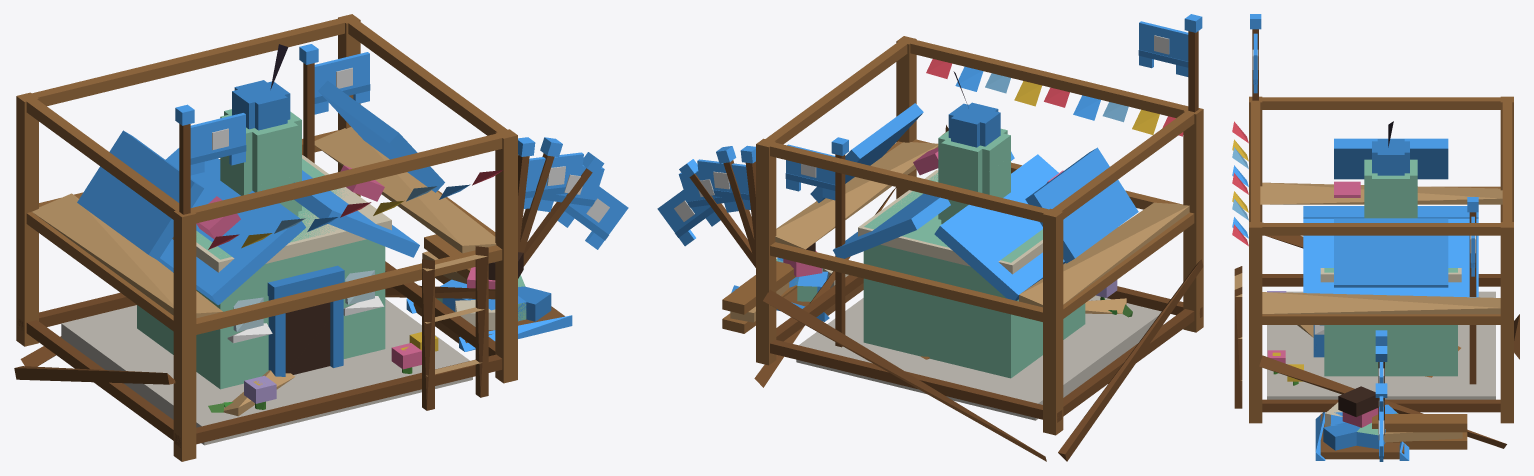
File: butterfly-home.glb
The picture shows the model from 3 angles, left to right: view 1: azimuth 30°, elevation 25°; view 2: azimuth 150°, elevation 25°; view 3: azimuth 270°, elevation 25°; orthographic projection. The views are drawn at different scales.
Parts seen in each view (by area): view 1: scaffold-mesh, built-mesh, dismantle-25-mesh, dismantle-75-mesh, dismantle-50-mesh, scaffold-banner, banner, dismantle-25-banner, dismantle-75-banner, flag-pole, dismantle-25-flag-pole, scaffold-flag-pole (+3 smaller); view 2: scaffold-mesh, built-mesh, dismantle-75-mesh, dismantle-25-mesh, dismantle-50-mesh, scaffold-banner, flag-pole, dismantle-25-banner, dismantle-75-banner, banner, dismantle-50-banner, dismantle-25-flag-pole (+3 smaller); view 3: scaffold-mesh, built-mesh, dismantle-25-mesh, dismantle-50-mesh, dismantle-75-mesh, flag-pole, scaffold-flag-pole, scaffold-banner.
Boxes of the visible parts, left/top/right/bottom form: scaffold-mesh: left=14, top=14, right=517, bottom=461; built-mesh: left=77, top=44, right=444, bottom=409; dismantle-25-mesh: left=61, top=252, right=572, bottom=445; dismantle-75-mesh: left=159, top=143, right=562, bottom=407; dismantle-50-mesh: left=222, top=275, right=564, bottom=416; scaffold-banner: left=190, top=113, right=246, bottom=175; banner: left=314, top=52, right=370, bottom=114; dismantle-25-banner: left=557, top=178, right=628, bottom=249; dismantle-75-banner: left=523, top=152, right=583, bottom=208; flag-pole: left=299, top=44, right=318, bottom=163; dismantle-25-flag-pole: left=523, top=152, right=604, bottom=266; scaffold-flag-pole: left=175, top=104, right=194, bottom=214; scaffold-mesh: left=722, top=36, right=1203, bottom=461; built-mesh: left=810, top=71, right=1138, bottom=378; dismantle-75-mesh: left=732, top=147, right=1132, bottom=420; dismantle-25-mesh: left=783, top=242, right=1161, bottom=403; dismantle-50-mesh: left=731, top=257, right=1132, bottom=420; scaffold-banner: left=1138, top=21, right=1188, bottom=76; flag-pole: left=831, top=137, right=848, bottom=347; dismantle-25-banner: left=657, top=190, right=720, bottom=246; dismantle-75-banner: left=697, top=159, right=750, bottom=209; banner: left=785, top=144, right=835, bottom=200; dismantle-50-banner: left=678, top=168, right=738, bottom=217; dismantle-25-flag-pole: left=679, top=159, right=755, bottom=267; scaffold-mesh: left=1232, top=96, right=1519, bottom=449; built-mesh: left=1267, top=121, right=1478, bottom=381; dismantle-25-mesh: left=1267, top=291, right=1495, bottom=460; dismantle-50-mesh: left=1273, top=325, right=1409, bottom=460; dismantle-75-mesh: left=1267, top=181, right=1495, bottom=460; flag-pole: left=1467, top=197, right=1478, bottom=384; scaffold-flag-pole: left=1250, top=14, right=1261, bottom=100; scaffold-banner: left=1252, top=33, right=1258, bottom=93.
Size of the model in its own units: 2.59 by 1.77 by 1.51.
